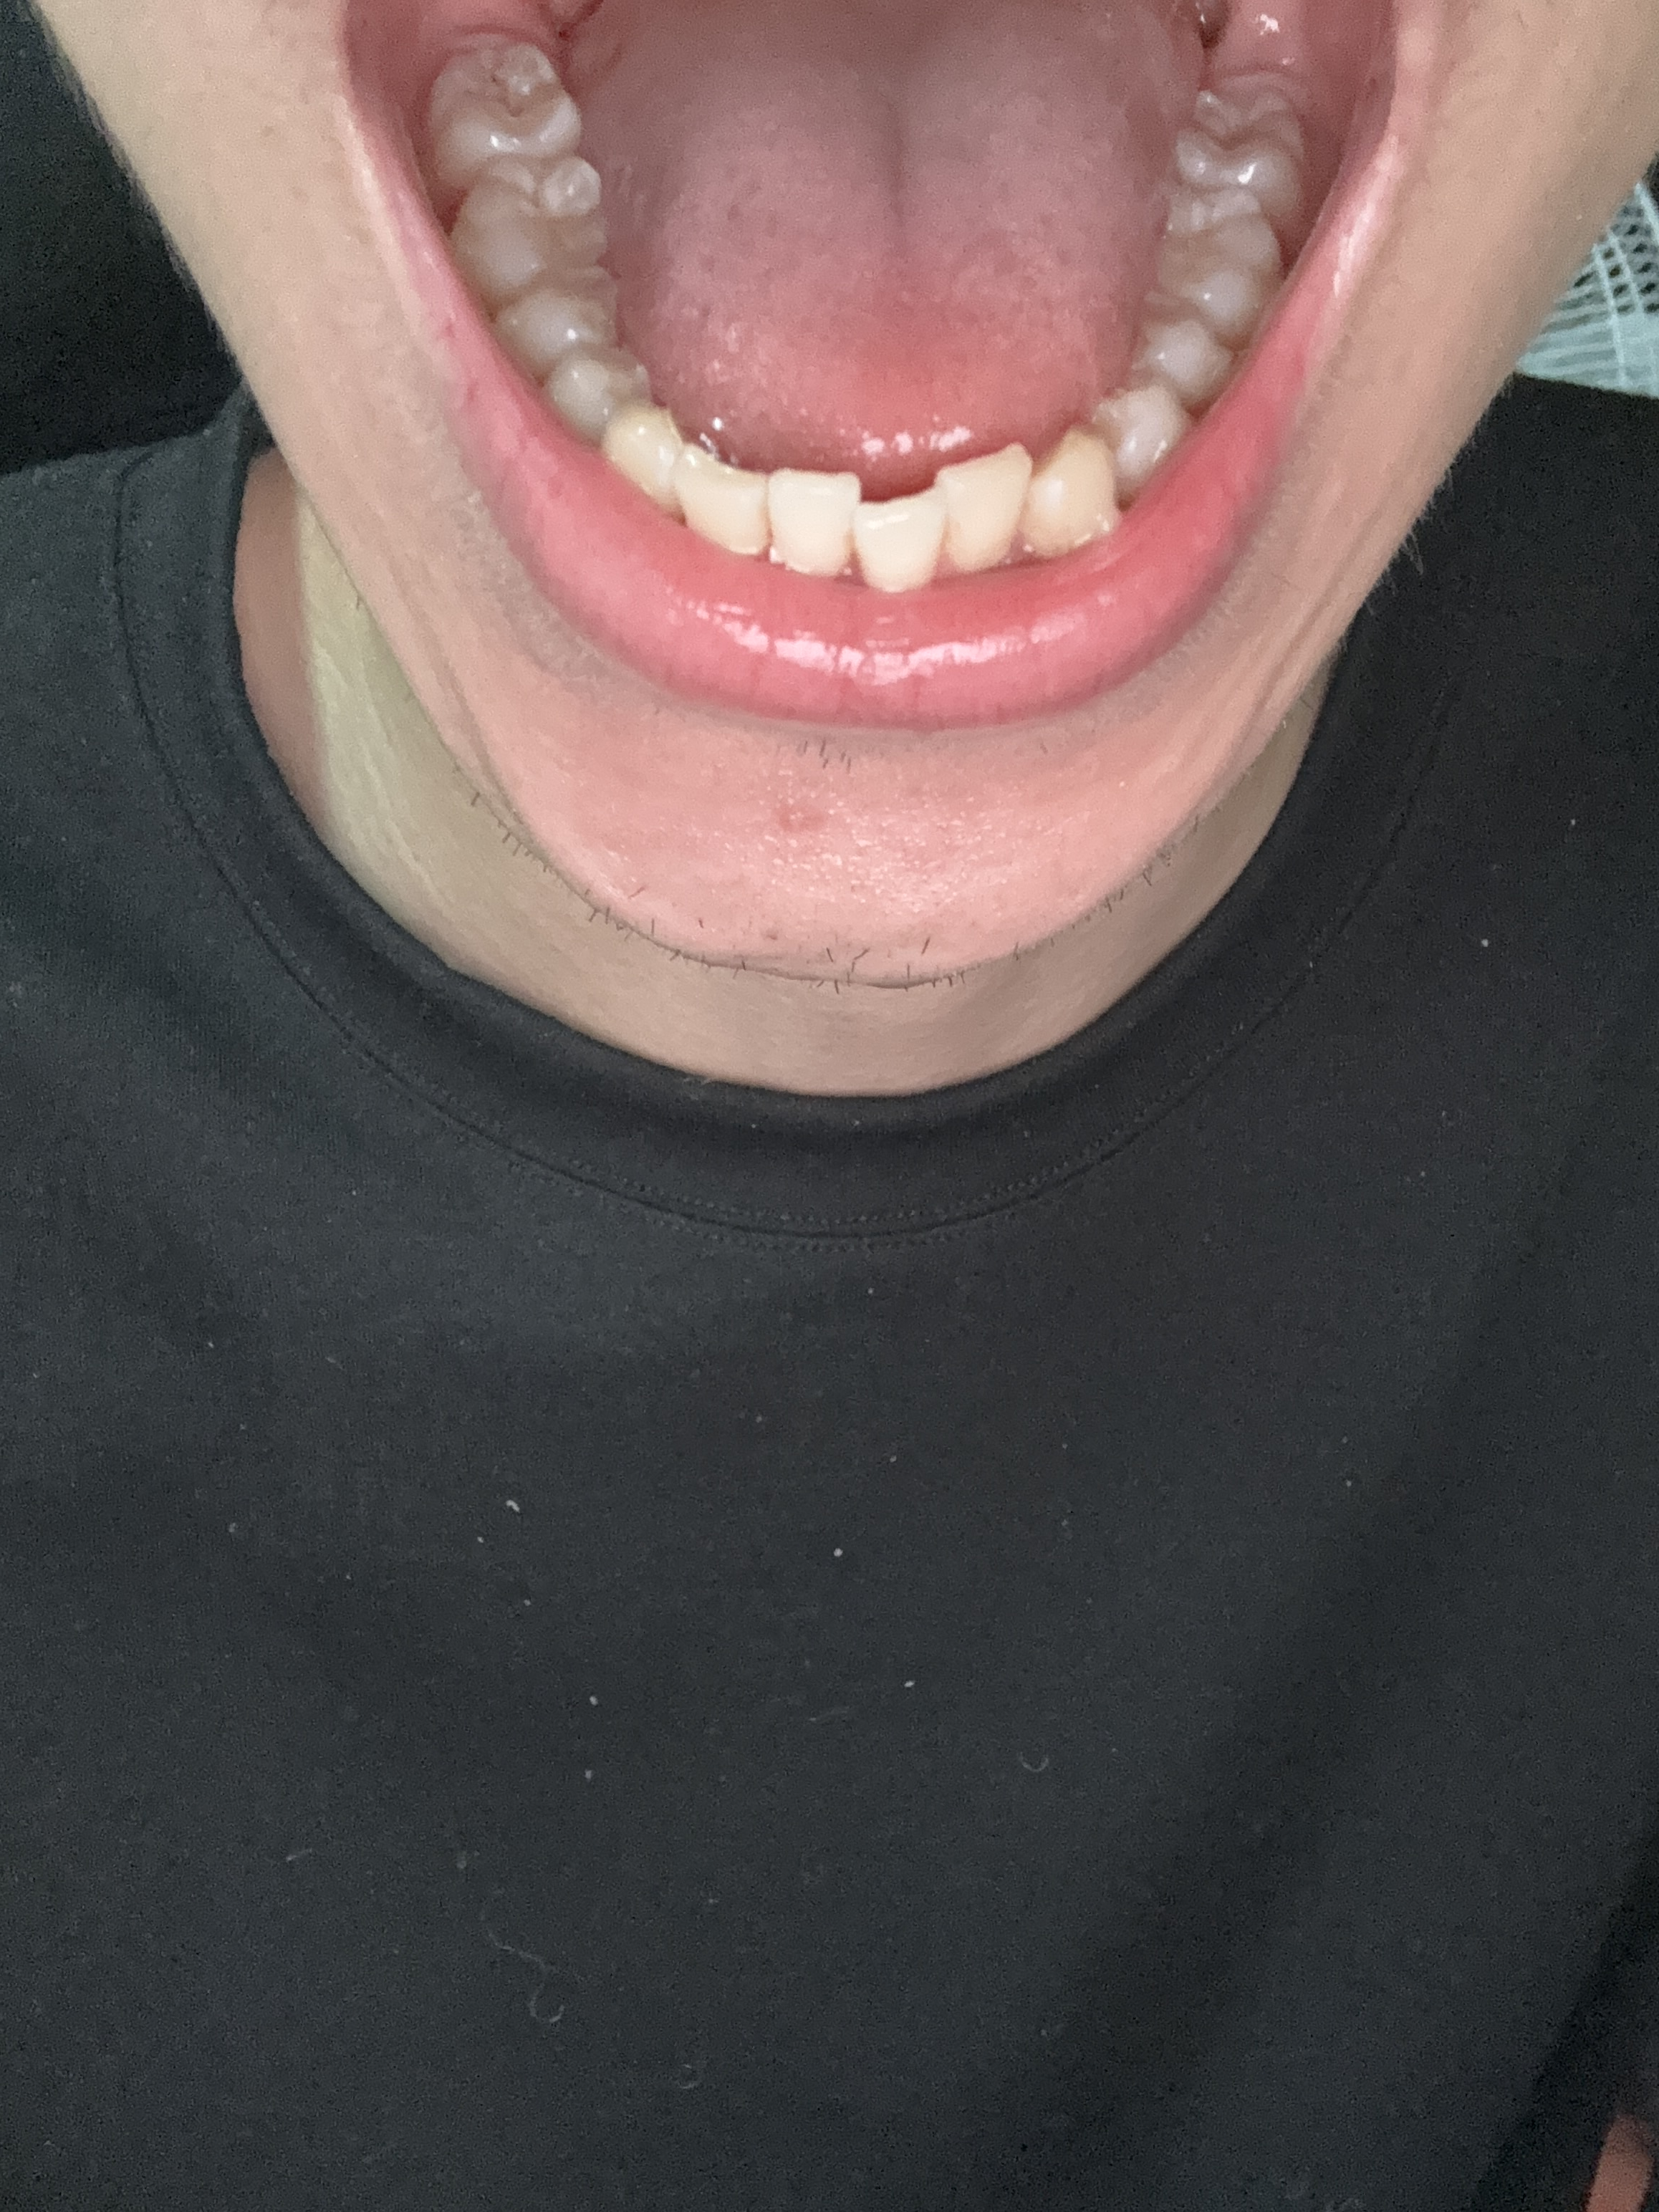teeth: (1025, 434, 1107, 547), (945, 458, 1021, 570), (863, 486, 941, 587), (774, 475, 849, 578), (683, 460, 765, 550)
